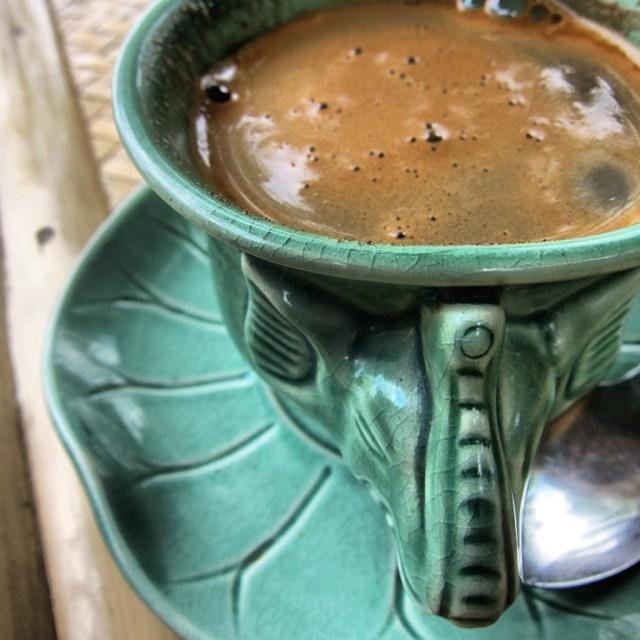Coffee: (133, 0, 640, 297)
